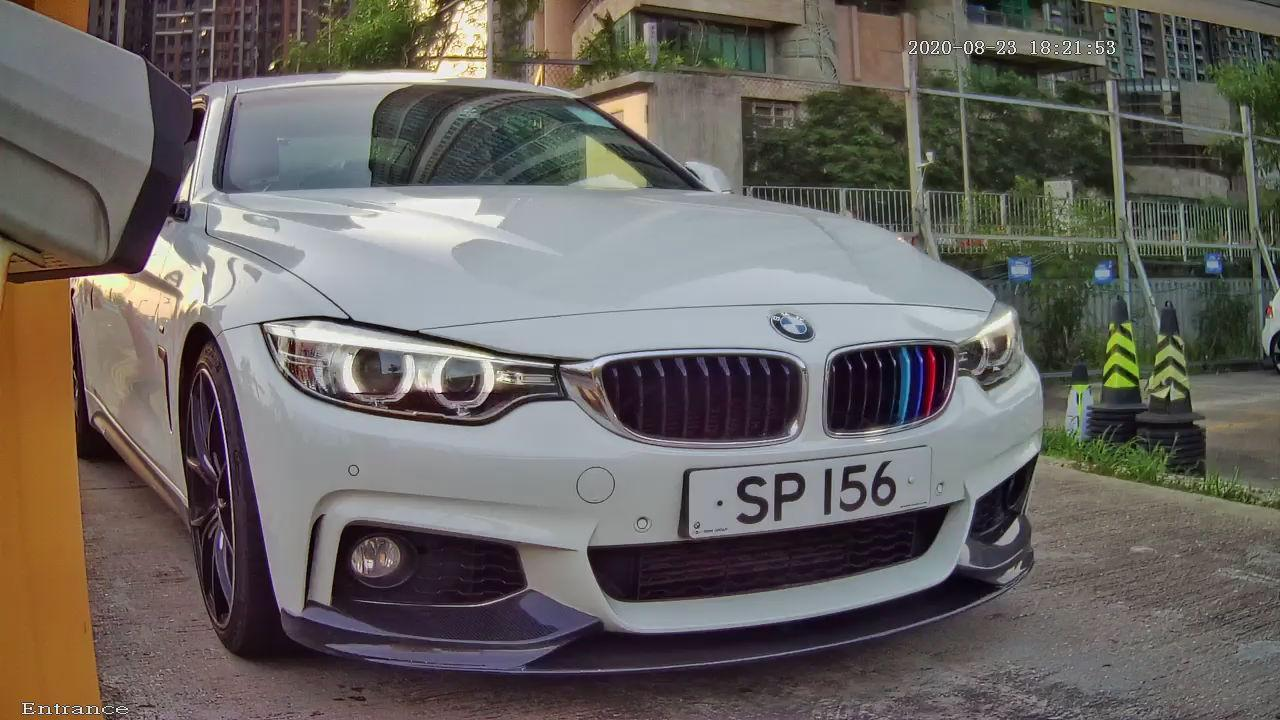Car: (58, 10, 1143, 714)
License Plate: (615, 408, 1003, 573)
